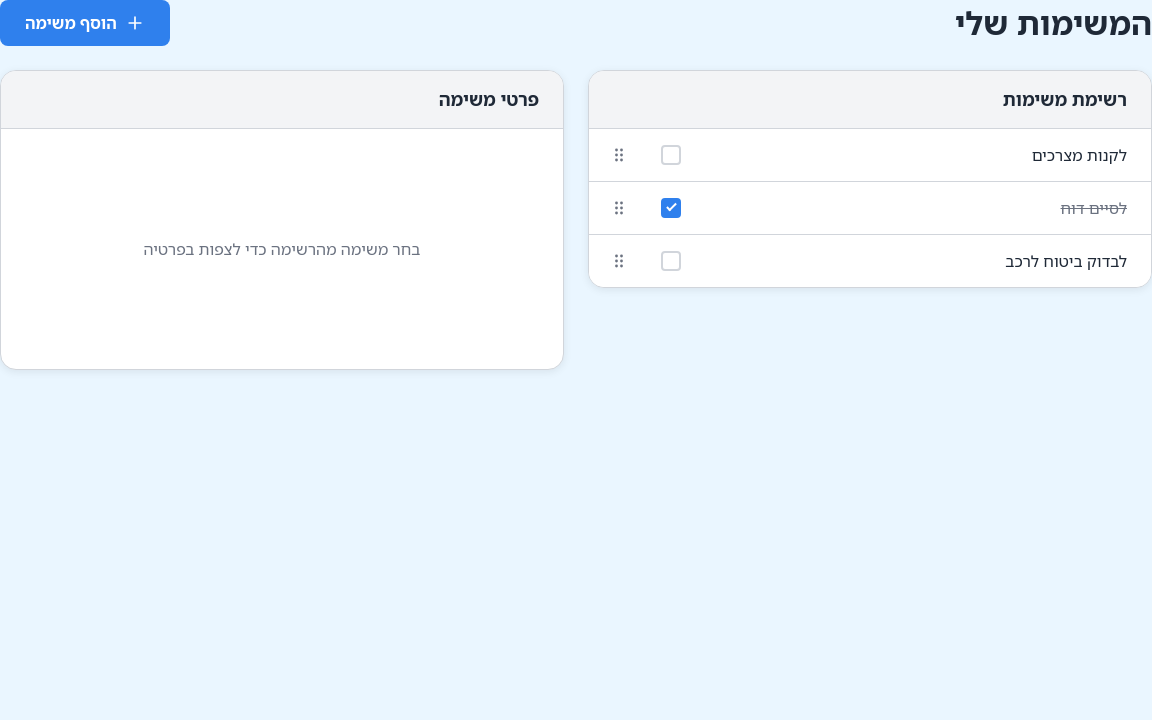
Test: HomePage › deleting removes the task and returns to the selection message
This screenshot has width=1152, height=720.
Click the button "לסיים דוח" at [1094, 208], box [701,182,1151,234]
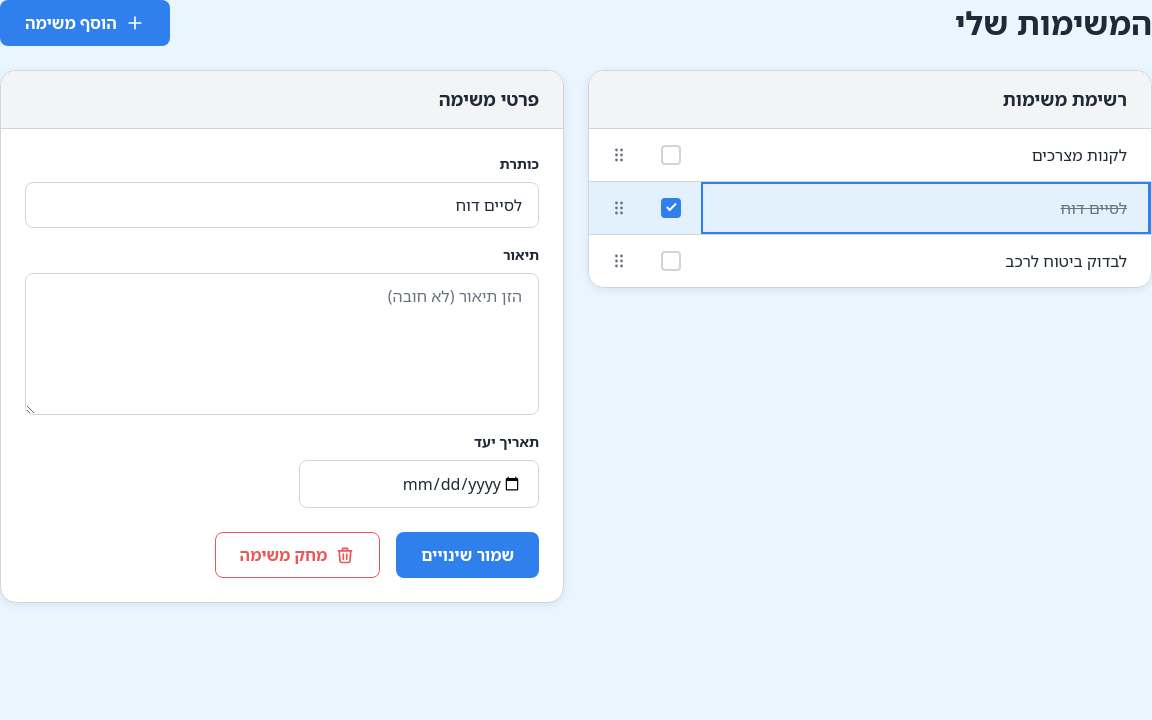
Click the button "מחק משימה" at [297, 555], box [215,532,380,578]
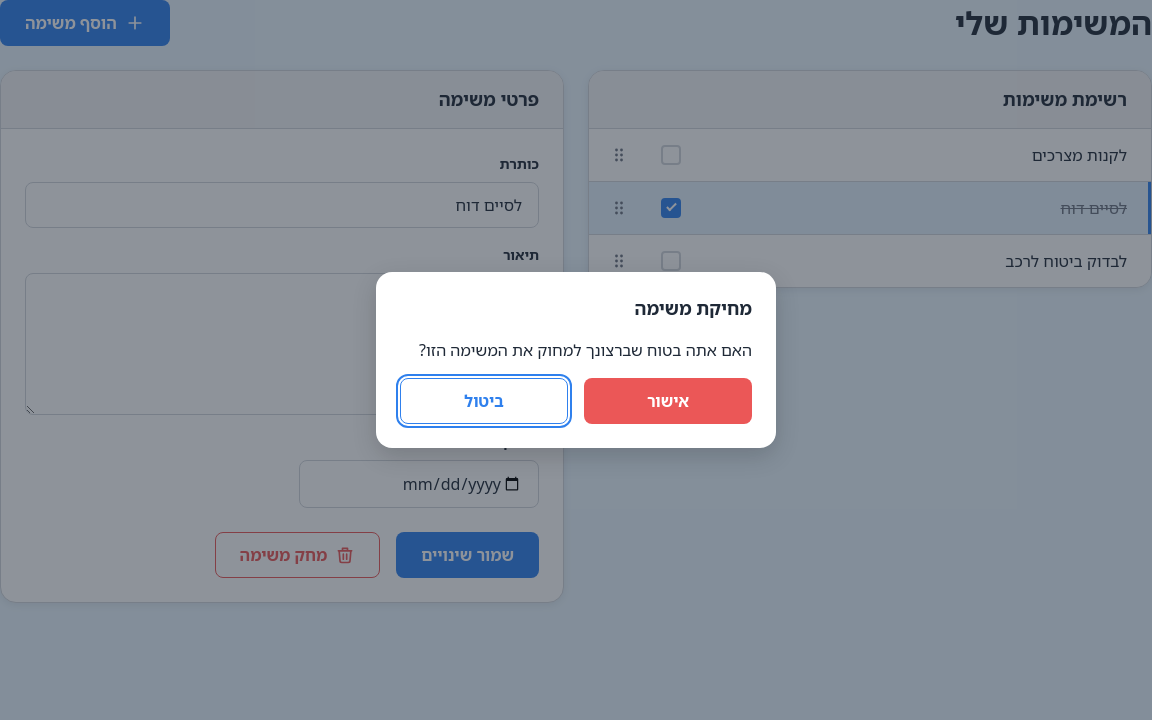
Click the button "אישור" at [668, 401], box [584,378,752,424]
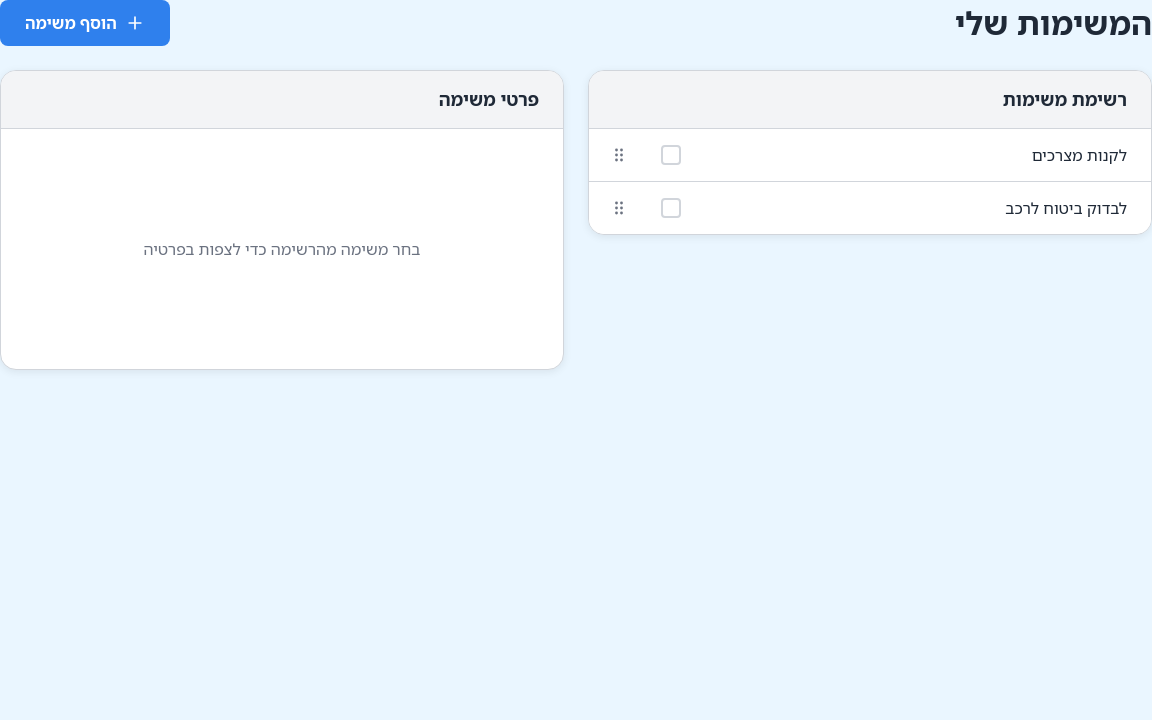
Check: the dialog is gone
Check: the list items read "לקנות מצרכים", "לבדוק ביטוח לרכב", in this order, box [589,129,1151,181]; [589,181,1151,234]
Check: the text "בחר משימה מהרשימה כדי לצפות בפרטיה" is shown, box [144,238,420,260]
